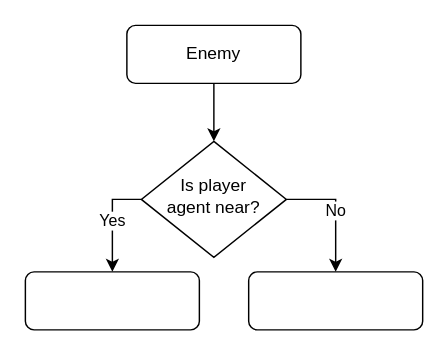
The diagram is 448 pixels wide and 355 high, and some of its shapes have lost their labels. Each missing label, with the centre of its shape:
"Seek nearest player agent" goes at point (111, 300).
"Wander" goes at point (335, 300).
